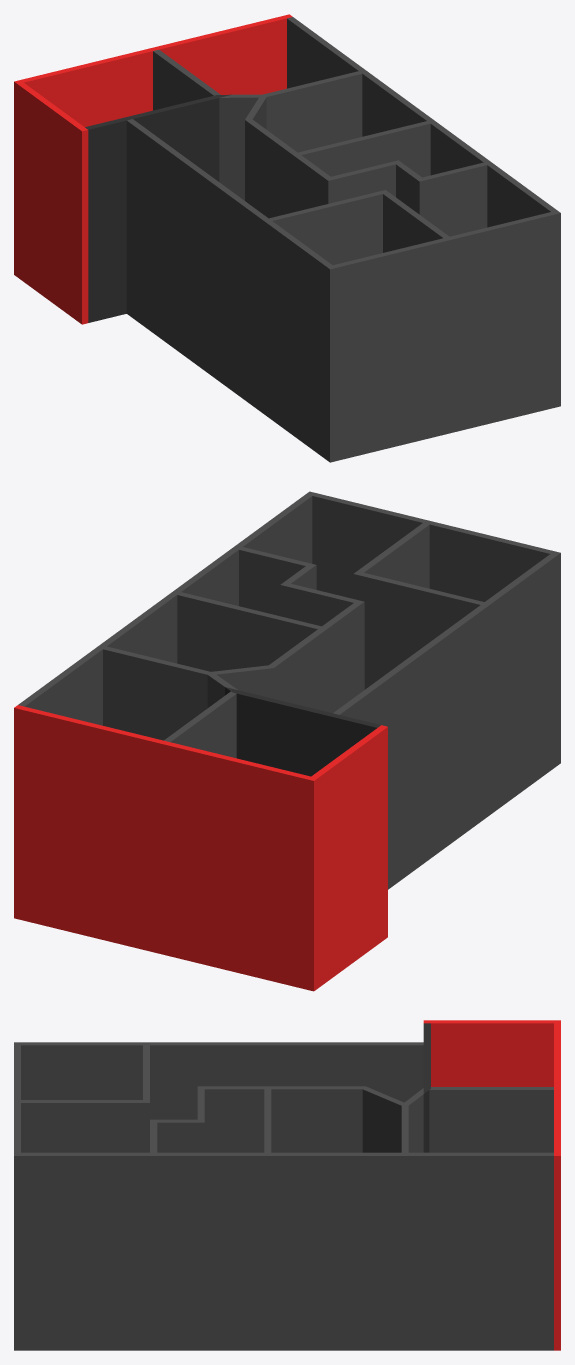
File: office.dae
3 views of the same model, one above another, from view 1: azimuth 30°, elevation 25°; view 2: azimuth 150°, elevation 25°; view 3: azimuth 270°, elevation 25° (orthographic). The views are drawn at different scales.
Visible parts, largest first — view 1: Basic_Wal1, Basic_Wal7, Basic_Wal2, Basic_Wall, Basic_Wal3, Basic_Wal0, Basic_Wa14, Basic_Wal5, Basic_Wa10, Basic_Wa15, Basic_Wal6, Basic_Wa13 (+4 smaller); view 2: Basic_Wall, Basic_Wal7, Basic_Wal2, Basic_Wal1, Basic_Wal0, Basic_Wal3, Basic_Wa15, Basic_Wa10, Basic_Wal5, Basic_Wa14, Basic_Wal6, Basic_Wal4 (+4 smaller); view 3: Basic_Wal0, Basic_Wal7, Basic_Wal5, Basic_Wal2, Basic_Wal4, Basic_Wa11, Basic_Wa12, Basic_Wall, Basic_Wal8, Basic_Wal3, Basic_Wa13, Basic_Wal1 (+2 smaller).
Boxes of the visible parts, x1,y1,x2,y2 form: Basic_Wal1: [326, 212, 554, 462]; Basic_Wal7: [126, 119, 332, 459]; Basic_Wal2: [17, 82, 88, 324]; Basic_Wall: [14, 14, 292, 276]; Basic_Wal3: [85, 94, 231, 322]; Basic_Wal0: [287, 17, 560, 407]; Basic_Wa14: [266, 71, 362, 152]; Basic_Wal5: [245, 116, 334, 218]; Basic_Wa10: [269, 190, 388, 264]; Basic_Wa15: [298, 121, 430, 177]; Basic_Wal6: [416, 162, 487, 236]; Basic_Wa13: [219, 94, 261, 200]; Basic_Wall: [14, 705, 317, 991]; Basic_Wal7: [333, 554, 556, 889]; Basic_Wal2: [311, 725, 387, 988]; Basic_Wal1: [312, 493, 560, 765]; Basic_Wal0: [18, 491, 315, 725]; Basic_Wal3: [225, 687, 380, 776]; Basic_Wa15: [177, 592, 321, 671]; Basic_Wa10: [353, 571, 484, 689]; Basic_Wal5: [263, 600, 364, 713]; Basic_Wa14: [103, 646, 210, 740]; Basic_Wal6: [239, 547, 316, 615]; Basic_Wal4: [164, 691, 236, 758]; Basic_Wal0: [14, 1152, 553, 1350]; Basic_Wal7: [21, 1042, 423, 1119]; Basic_Wal5: [197, 1086, 371, 1152]; Basic_Wal2: [423, 1020, 553, 1086]; Basic_Wal4: [429, 1087, 553, 1152]; Basic_Wa11: [21, 1100, 142, 1152]; Basic_Wa12: [362, 1089, 408, 1152]; Basic_Wall: [554, 1020, 560, 1350]; Basic_Wal8: [157, 1119, 204, 1152]; Basic_Wal3: [423, 1023, 430, 1152]; Basic_Wa13: [404, 1088, 423, 1152]; Basic_Wal1: [14, 1042, 20, 1152].
Size of the model in its own units: 909 by 1552 by 610.
